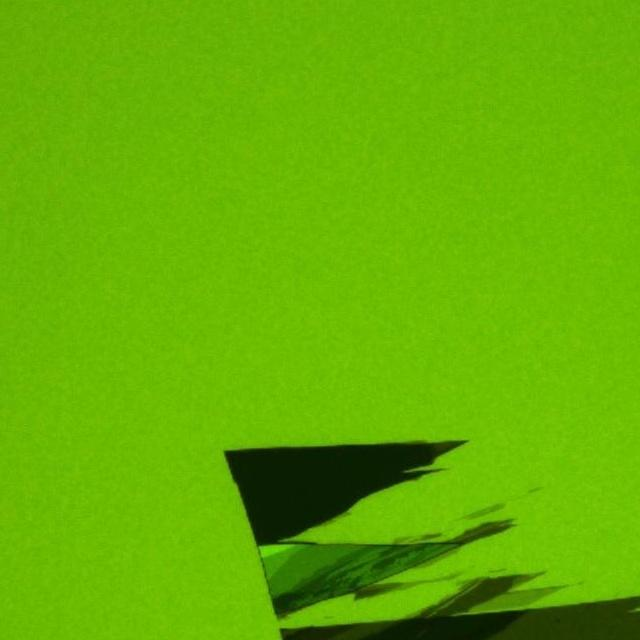monolayer-eWW4: (467, 586, 564, 610)
